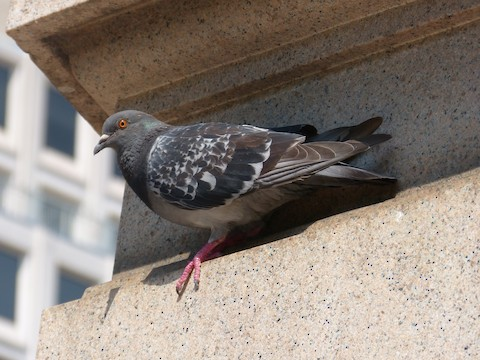pigeon: (92, 104, 408, 296)
